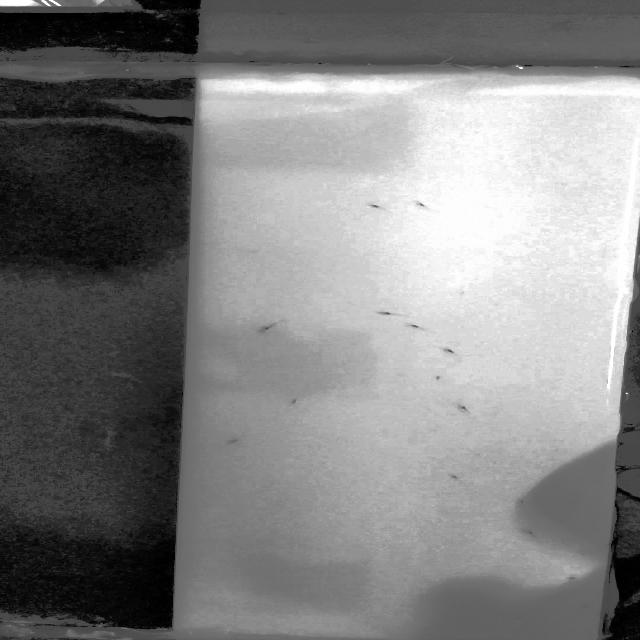shrimp: (437, 468, 469, 485), (448, 401, 482, 415), (368, 306, 403, 319), (505, 494, 536, 508), (216, 435, 249, 447), (404, 196, 432, 210), (513, 527, 540, 541), (561, 572, 588, 586), (277, 395, 310, 405), (253, 321, 277, 334), (362, 202, 389, 212), (405, 322, 430, 332), (441, 348, 465, 358)
